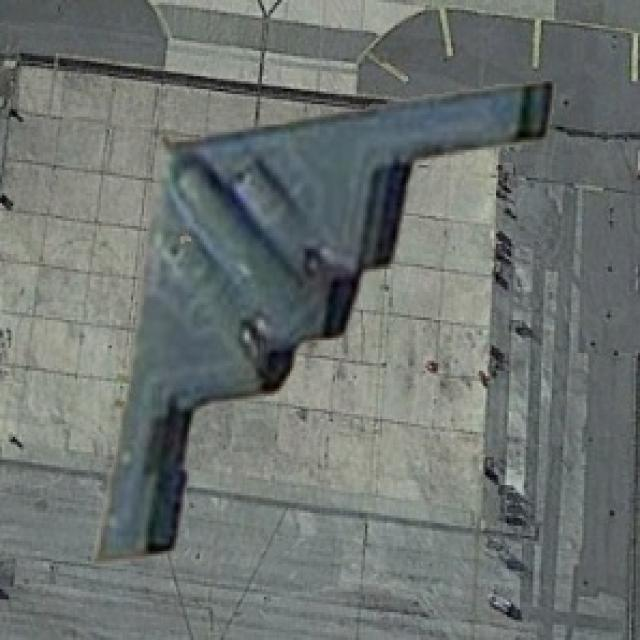B-2_TopDown: (86, 71, 554, 566)
